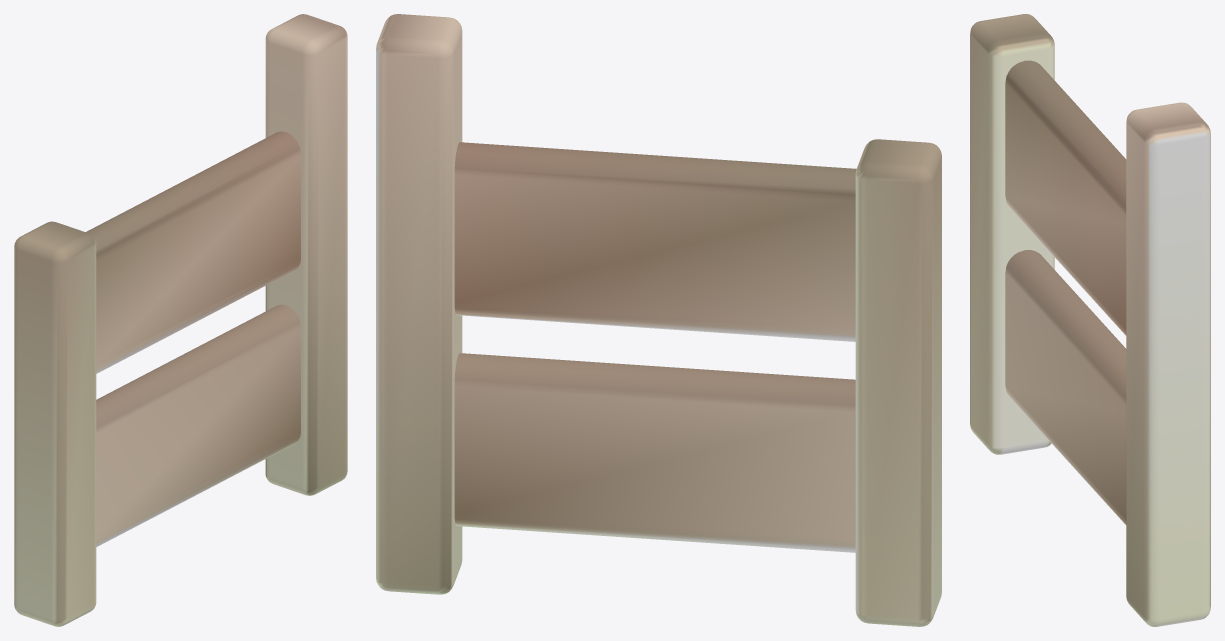
File: crate-0.glb
The picture shows the model from 3 angles, left to right: view 1: azimuth 30°, elevation 25°; view 2: azimuth 150°, elevation 25°; view 3: azimuth 270°, elevation 25°; orthographic projection. The views are drawn at different scales.
Visible parts, largest first — view 1: crate-0; view 2: crate-0; view 3: crate-0.
Boxes of the visible parts, x1,y1,x2,y2 form: crate-0: (14, 14, 347, 626); crate-0: (376, 14, 941, 626); crate-0: (970, 14, 1210, 626).
Bounding box in the file's own units: 0.5119 × 0.571 × 0.2504.
